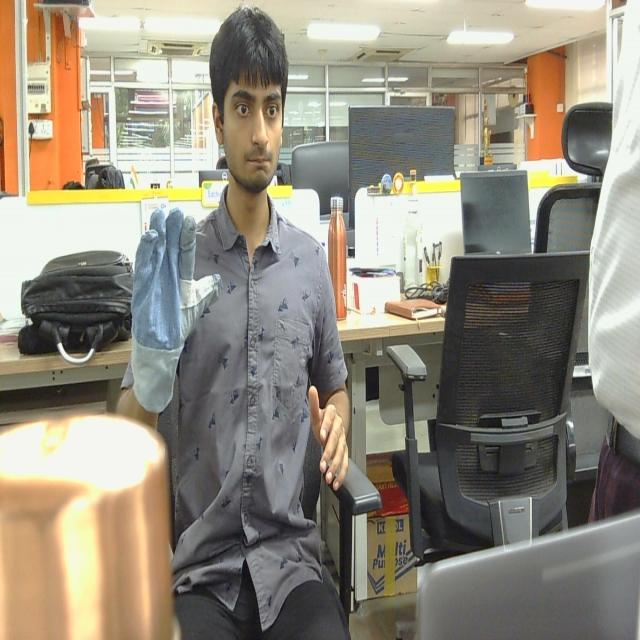Gloves-Detection: (124, 200, 222, 420)
